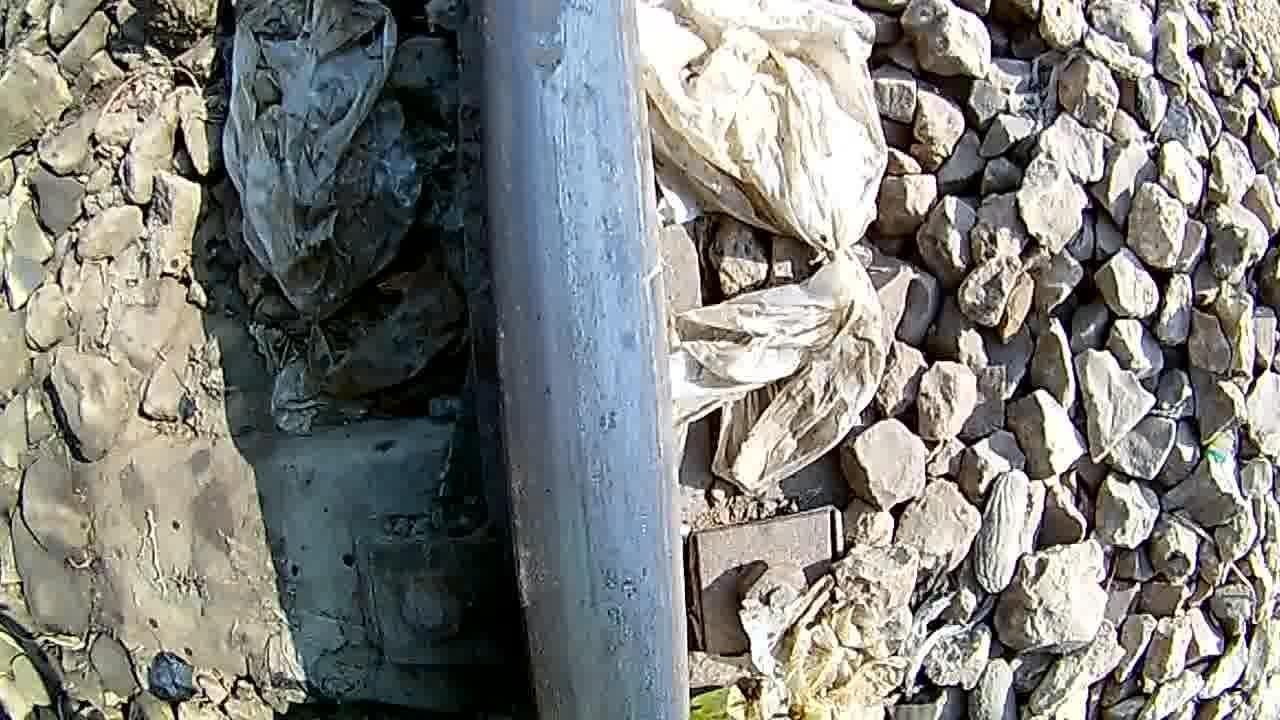crack: (484, 0, 656, 720)
